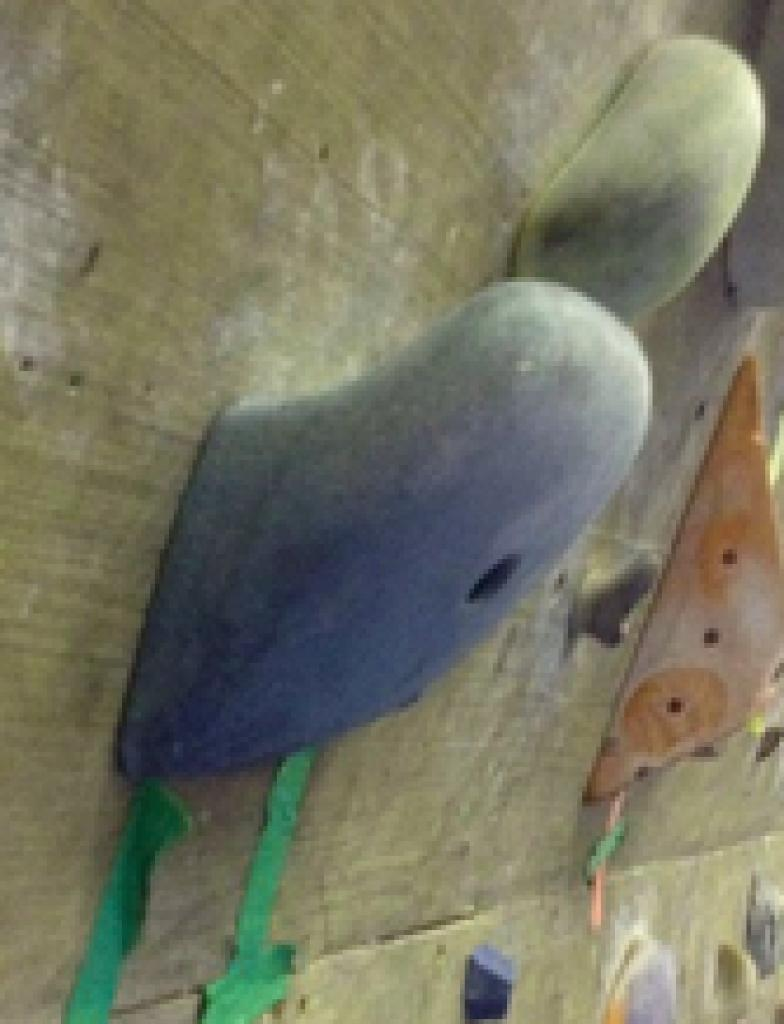jug: (122, 277, 648, 772)
tape: (200, 745, 325, 1015), (67, 781, 187, 1019)
